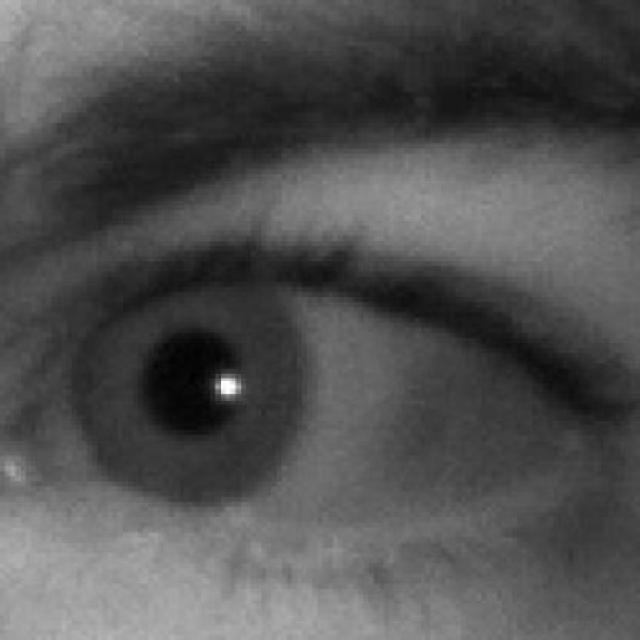awake: (0, 232, 585, 568)
